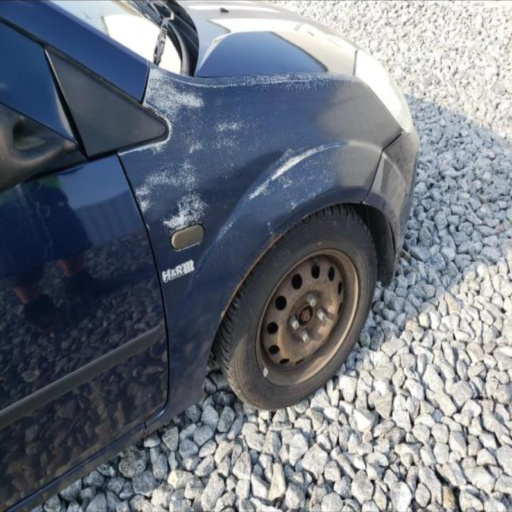rust: (255, 248, 362, 387), (216, 213, 308, 323), (350, 195, 363, 203)
